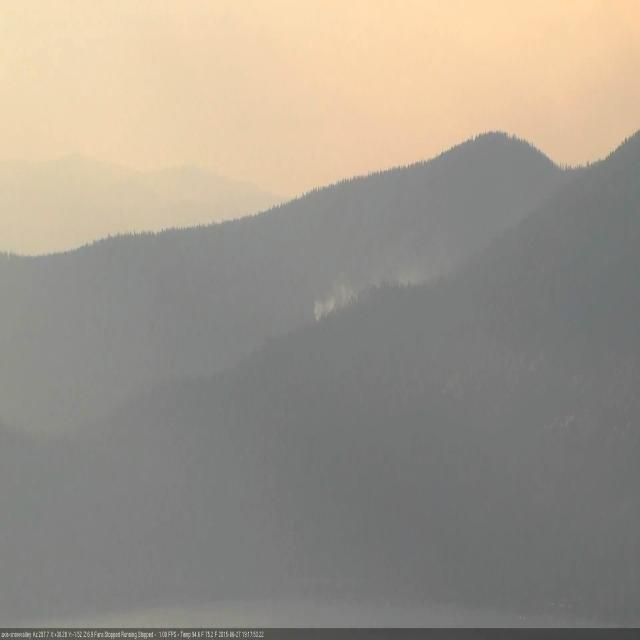smoke: (312, 281, 351, 321)
